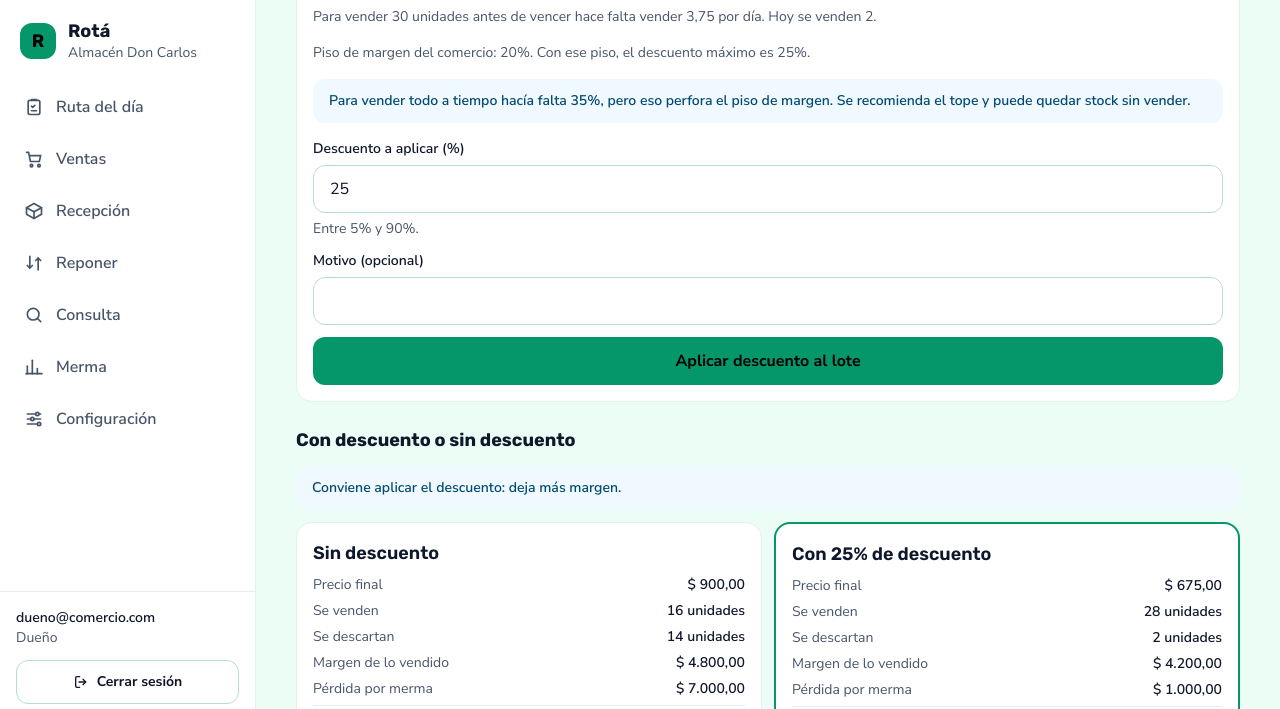
Test case: Detalle de lote › aplica el descuento recomendado y recarga el lote (HU-17)
The width and height of the screenshot is (1280, 709).
(page scrolled)
Check: the field labelled "Descuento a aplicar (%)" holds "25", box left=313, top=164, right=1223, bottom=212
Click the button "Aplicar descuento al lote".
click(768, 360)  # box left=313, top=336, right=1223, bottom=384
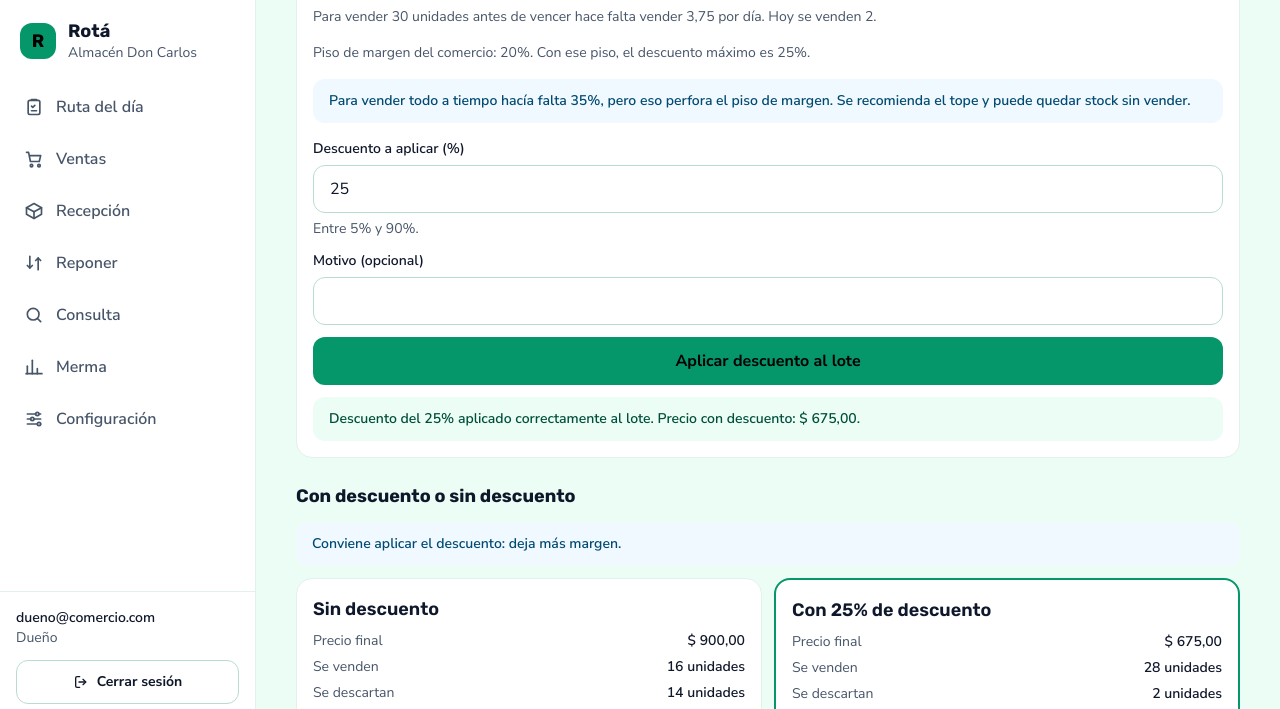
Check: the text "Descuento del 25% aplicado correctamente al lote" is shown, box left=329, top=408, right=860, bottom=428
